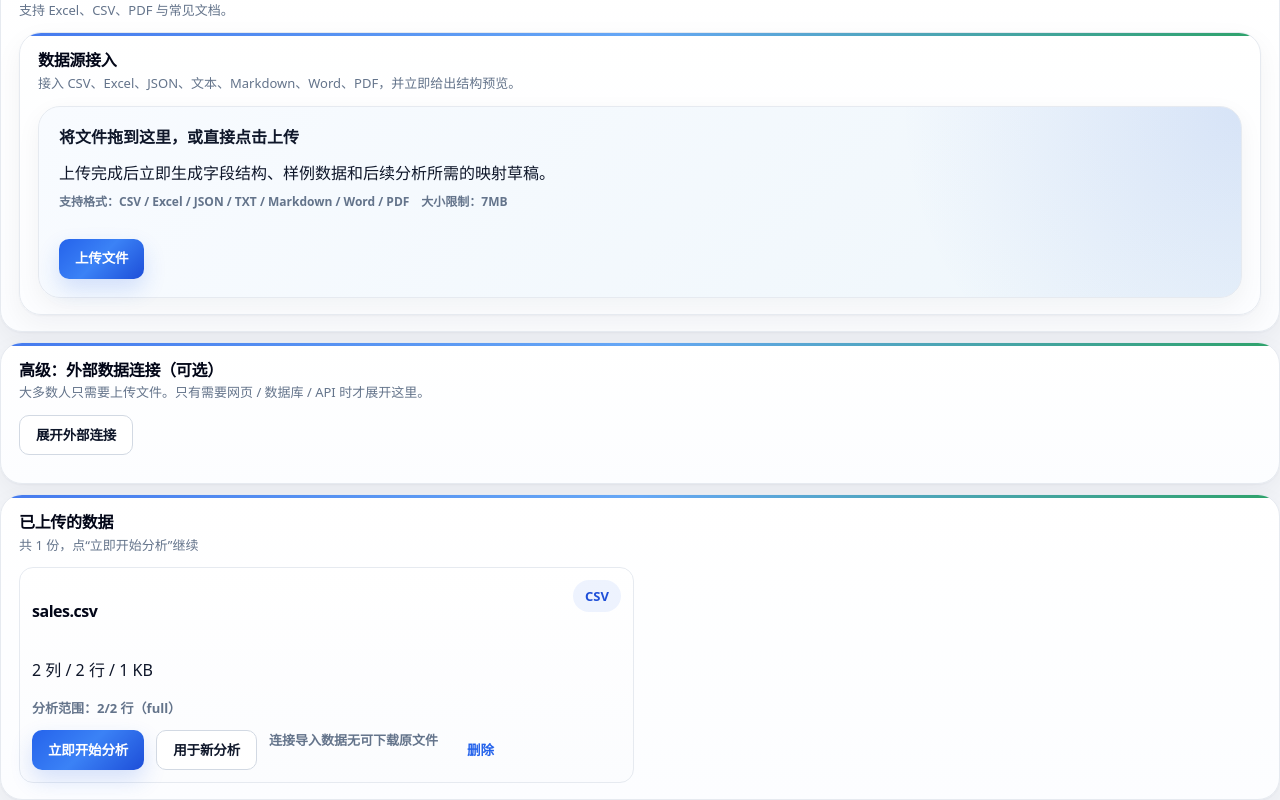
Test: data sources page › deletes a persisted dataset from the list
(page scrolled)
Check: the heading "sales.csv" is shown, box [32,602,97,620]
Click the button "删除" at [480, 750], box [450,730,511,770]
(page scrolled)
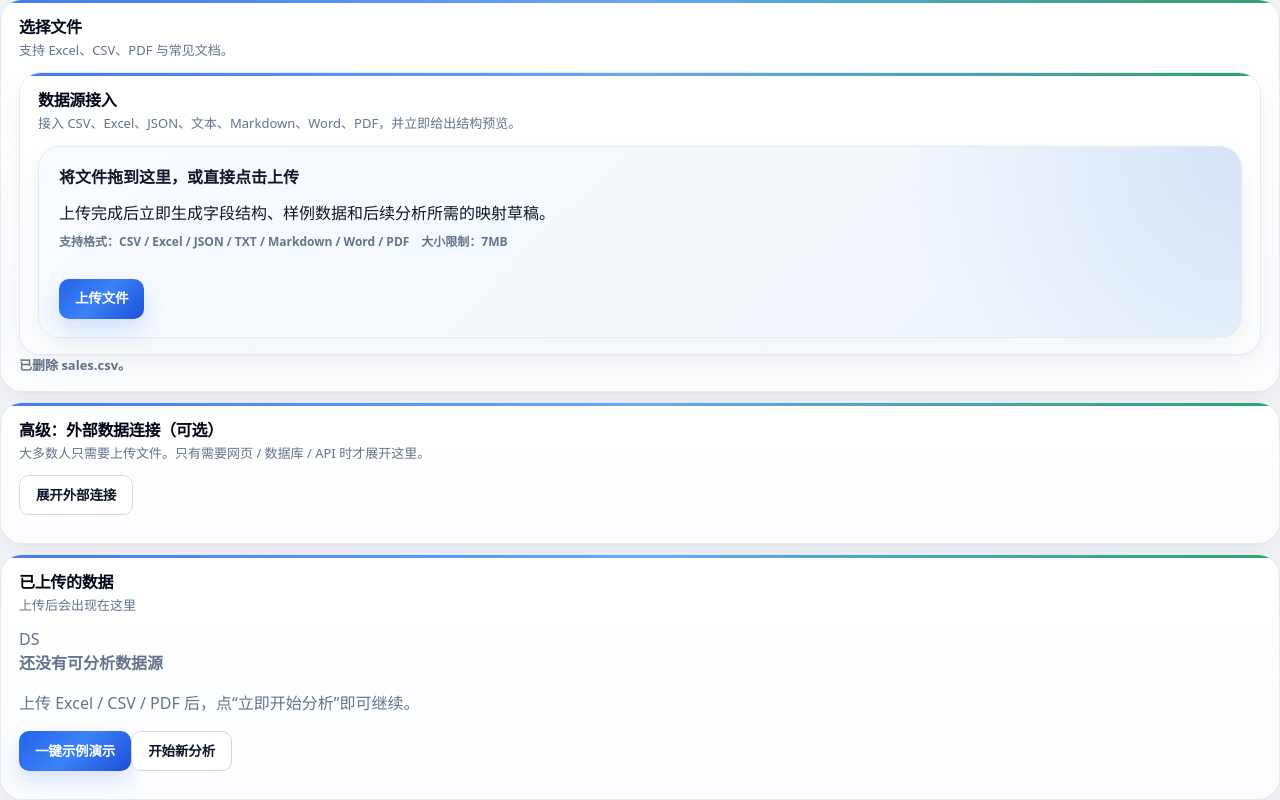
Check: the text "已删除 sales.csv。" is shown, box [19,356,131,374]
